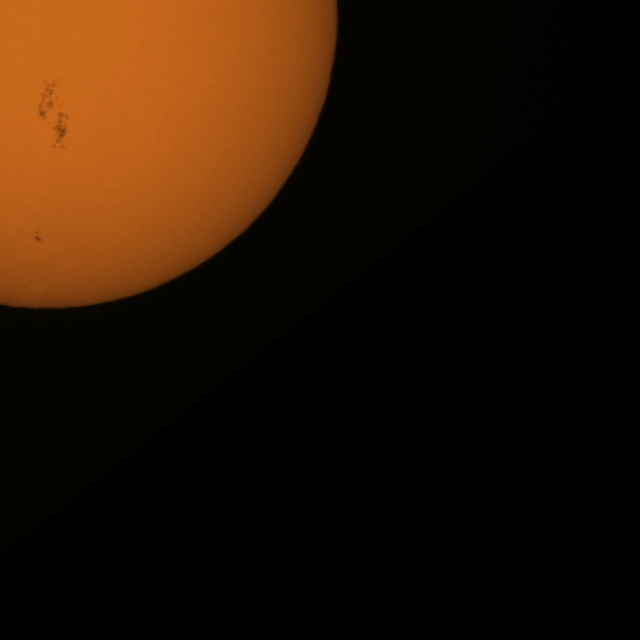sunspot: (38, 77, 69, 127), (48, 109, 71, 152), (32, 230, 43, 243)
